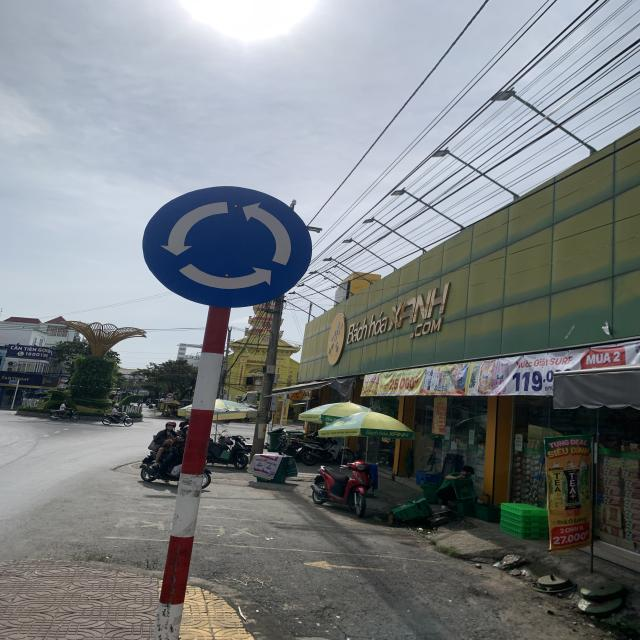Xe_Bus: (142, 185, 312, 308)
